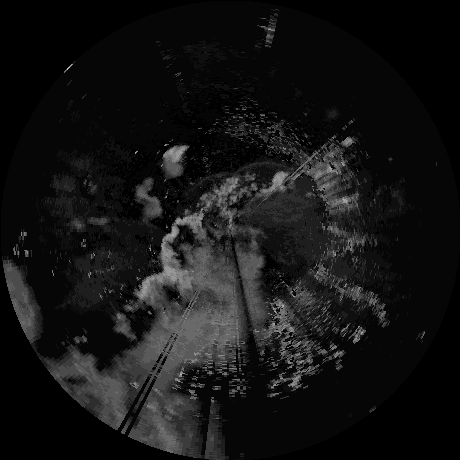frontgust: (235, 159, 295, 173)
